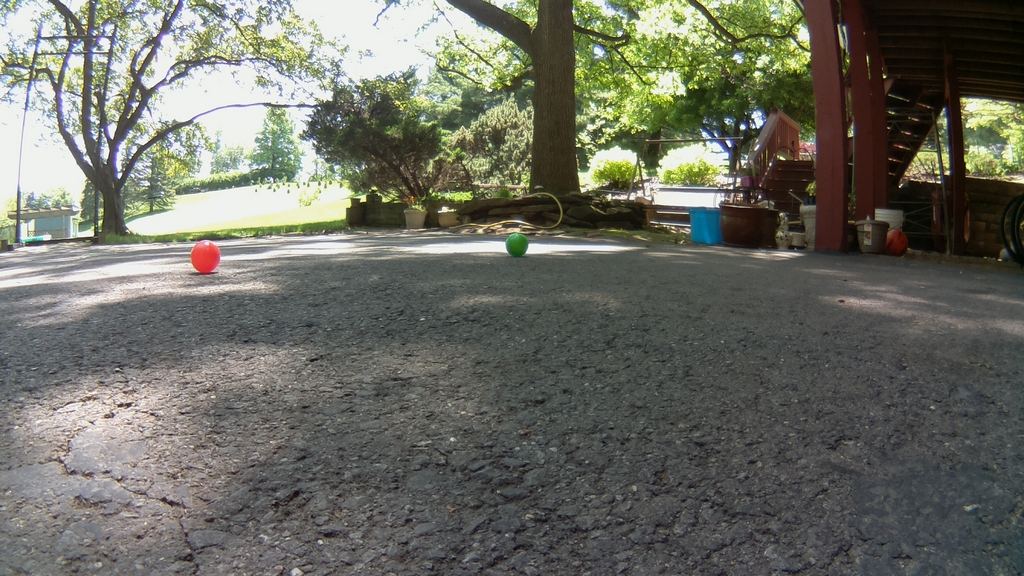ball: (189, 240, 219, 274)
